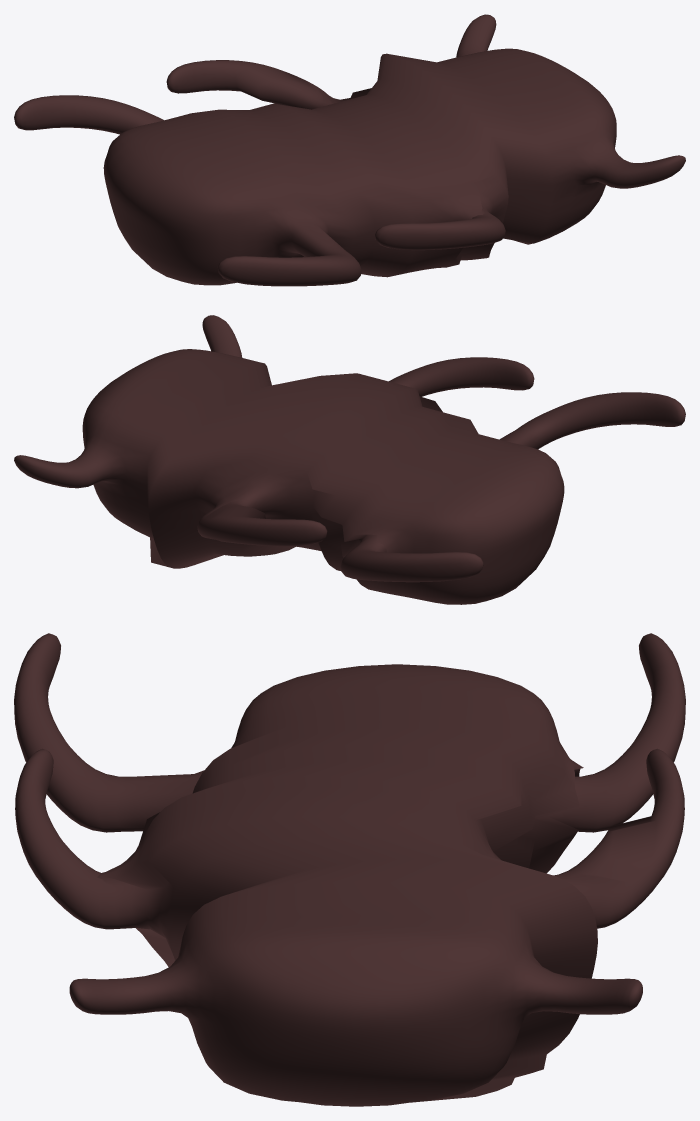
File: bentroach.fbx
3 views of the same model, one above another, from view 1: azimuth 30°, elevation 25°; view 2: azimuth 150°, elevation 25°; view 3: azimuth 270°, elevation 25° (orthographic). The views are drawn at different scales.
Visible parts, largest first — view 1: pCube3; view 2: pCube3; view 3: pCube3.
Boxes of the visible parts, x1=… form: pCube3: x1=14, y1=14, x2=685, y2=286; pCube3: x1=14, y1=315, x2=685, y2=604; pCube3: x1=14, y1=633, x2=685, y2=1106.
Bounding box in the file's own units: 2.35 × 0.7074 × 1.94.
